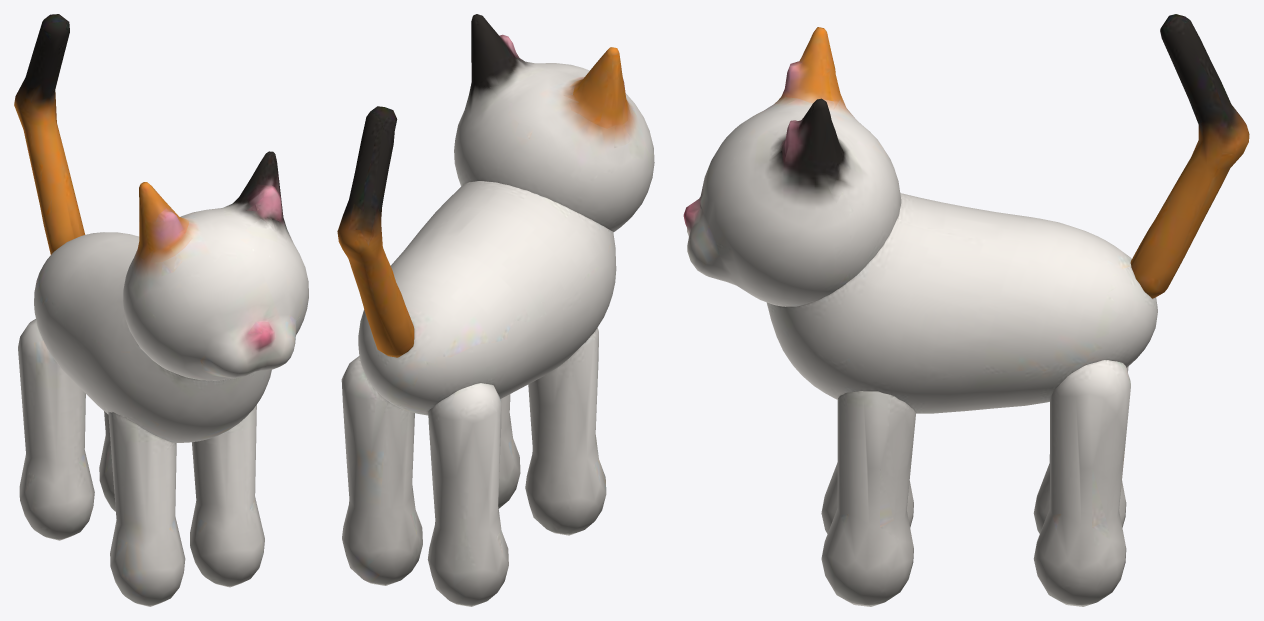
Rendered from animal_cat.glb.
The picture shows the model from 3 angles, left to right: view 1: azimuth 30°, elevation 25°; view 2: azimuth 150°, elevation 25°; view 3: azimuth 270°, elevation 25°; orthographic projection. The views are drawn at different scales.
Visible parts, largest first — view 1: head, animal_cat, leg2, leg0, leg1, tail, leg3; view 2: animal_cat, head, leg2, leg3, leg0, tail, leg1; view 3: animal_cat, head, leg3, leg1, tail, leg0, leg2.
Boxes of the visible parts, bbox=[...] form: head: bbox=[123, 151, 308, 380]; animal_cat: bbox=[34, 232, 271, 442]; leg2: bbox=[18, 319, 94, 540]; leg0: bbox=[108, 412, 185, 606]; leg1: bbox=[190, 404, 264, 587]; tail: bbox=[14, 14, 85, 254]; leg3: bbox=[99, 411, 115, 511]; animal_cat: bbox=[358, 181, 616, 415]; head: bbox=[454, 14, 654, 232]; leg2: bbox=[427, 383, 508, 606]; leg3: bbox=[341, 356, 422, 585]; leg0: bbox=[525, 328, 606, 535]; tail: bbox=[337, 106, 414, 357]; leg1: bbox=[498, 394, 520, 508]; animal_cat: bbox=[766, 193, 1157, 413]; head: bbox=[683, 27, 901, 306]; leg3: bbox=[1033, 360, 1130, 606]; leg1: bbox=[821, 391, 915, 606]; tail: bbox=[1130, 14, 1249, 298]; leg0: bbox=[821, 400, 913, 533]; leg2: bbox=[1033, 366, 1128, 533].
Size of the model in its own units: 0.1161 by 0.3226 by 0.2933.
1 material, 1 textured.
